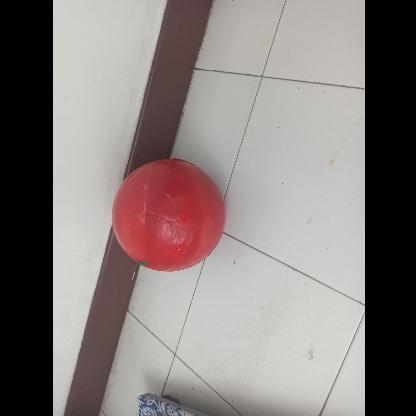red_ball: (108, 155, 224, 270)
